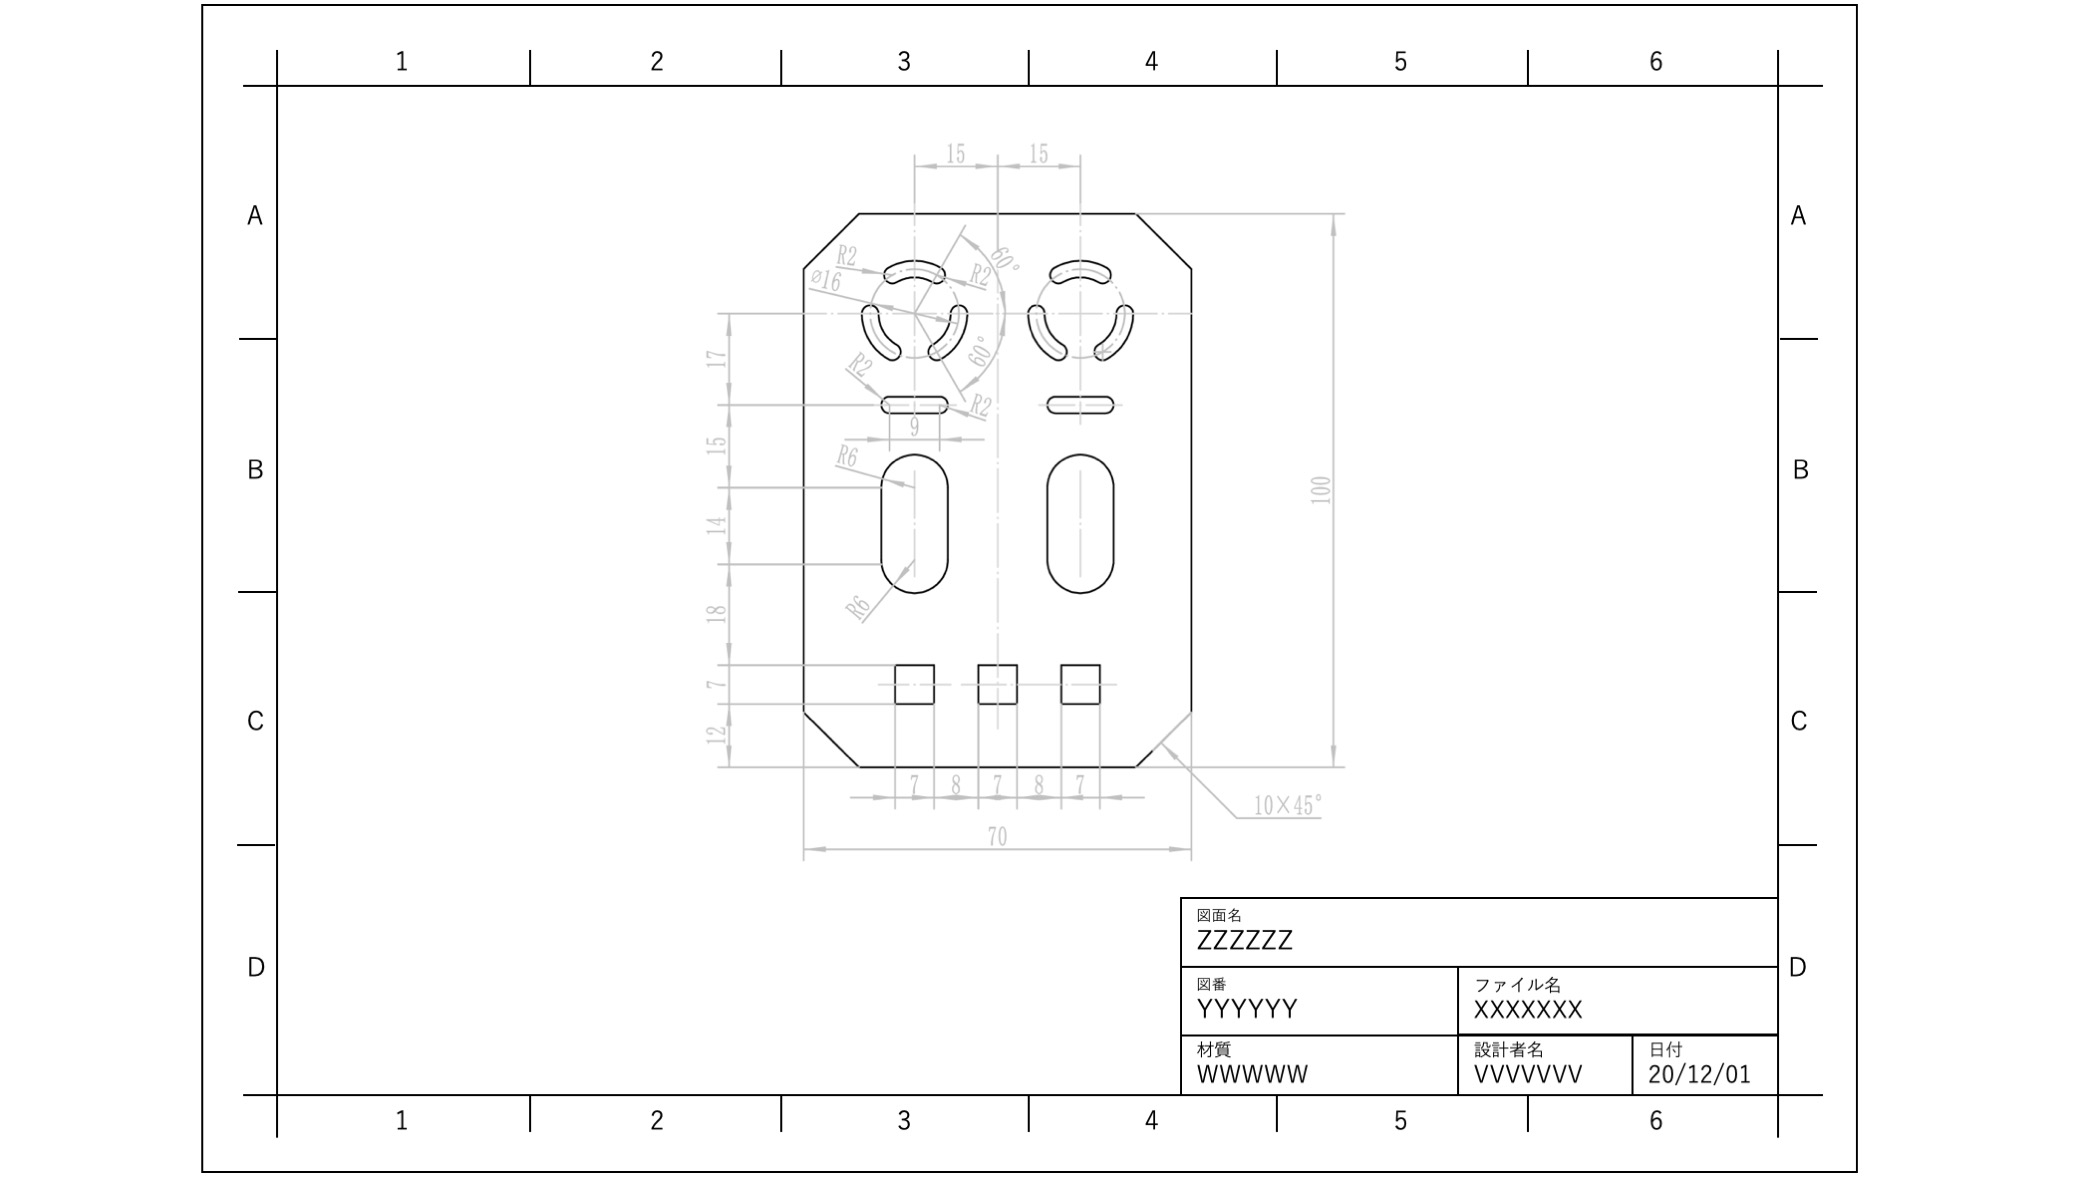rectangle: (966, 653, 1028, 717), (1050, 653, 1113, 715), (886, 658, 945, 711)
round_rectangle: (1037, 440, 1122, 607), (861, 448, 956, 594), (847, 301, 907, 369), (1087, 286, 1137, 362), (917, 304, 976, 363), (1027, 296, 1070, 369), (878, 258, 958, 296), (1036, 386, 1125, 420), (873, 386, 955, 420), (1041, 249, 1122, 283)
